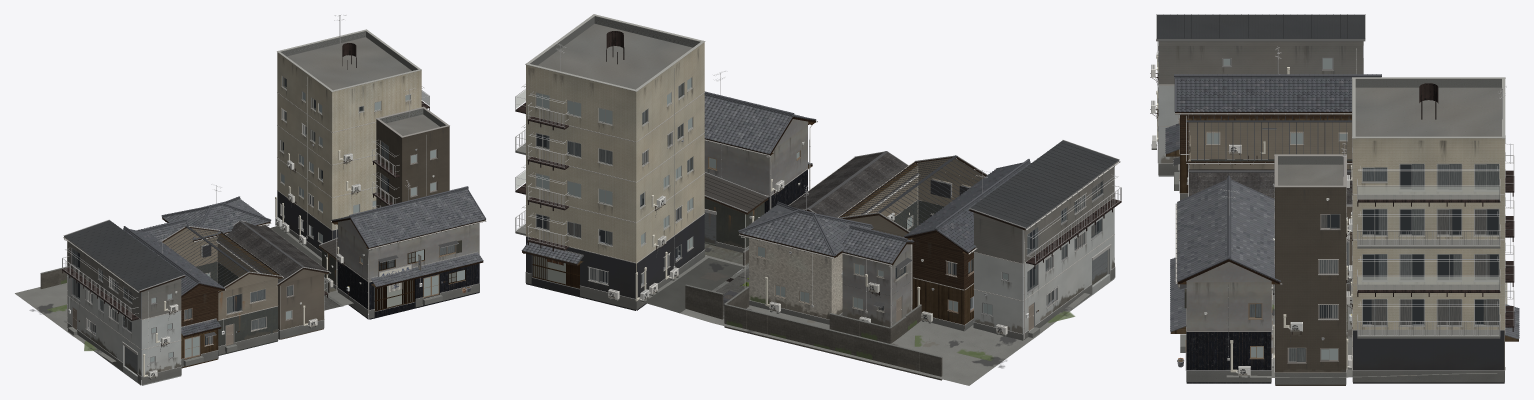
File: block_C.gltf
3 views of the same model, side by side, from view 1: azimuth 30°, elevation 25°; view 2: azimuth 150°, elevation 25°; view 3: azimuth 270°, elevation 25° (orthographic). The views are drawn at different scales.
Parts seen in each view (by area): view 1: C01_five_storey_rc, C02_craft_workshop, C08_three_storey_mortar, C06_long_tin_house, C03_pencil_building, C04_lane_house, C07_wood_row, C_ground, C05_corner_kawara, C02b_workshop_annex, C06b_back_house, C_walls; view 2: C01_five_storey_rc, C08_three_storey_mortar, C05_corner_kawara, C_ground, C02_craft_workshop, C07_wood_row, C_walls, C06b_back_house, C06_long_tin_house, C04_lane_house, C02b_workshop_annex; view 3: C01_five_storey_rc, C02_craft_workshop, C03_pencil_building, C08_three_storey_mortar, C07_wood_row, C06_long_tin_house, C04_lane_house, C_ground.
Boxes of the visible parts, bbox=[...] form: C01_five_storey_rc: bbox=[275, 15, 429, 257]; C02_craft_workshop: bbox=[331, 180, 486, 319]; C08_three_storey_mortar: bbox=[62, 219, 185, 385]; C06_long_tin_house: bbox=[161, 225, 283, 355]; C03_pencil_building: bbox=[372, 88, 449, 208]; C04_lane_house: bbox=[216, 220, 330, 339]; C07_wood_row: bbox=[123, 226, 226, 368]; C_ground: bbox=[15, 226, 353, 362]; C05_corner_kawara: bbox=[161, 184, 271, 242]; C02b_workshop_annex: bbox=[319, 237, 337, 290]; C06b_back_house: bbox=[137, 218, 188, 240]; C_walls: bbox=[40, 266, 329, 292]; C01_five_storey_rc: bbox=[515, 14, 705, 310]; C08_three_storey_mortar: bbox=[969, 140, 1121, 340]; C05_corner_kawara: bbox=[738, 185, 873, 324]; C_ground: bbox=[599, 230, 1089, 385]; C02_craft_workshop: bbox=[704, 71, 817, 213]; C07_wood_row: bbox=[903, 159, 1030, 331]; C_walls: bbox=[685, 247, 942, 380]; C06b_back_house: bbox=[840, 224, 914, 327]; C06_long_tin_house: bbox=[838, 155, 987, 236]; C04_lane_house: bbox=[788, 151, 919, 221]; C02b_workshop_annex: bbox=[704, 172, 768, 252]; C01_five_storey_rc: bbox=[1346, 77, 1519, 383]; C02_craft_workshop: bbox=[1170, 175, 1282, 383]; C03_pencil_building: bbox=[1271, 143, 1352, 385]; C08_three_storey_mortar: bbox=[1150, 14, 1365, 176]; C07_wood_row: bbox=[1165, 46, 1381, 200]; C06_long_tin_house: bbox=[1186, 115, 1352, 183]; C04_lane_house: bbox=[1188, 168, 1352, 273]; C_ground: bbox=[1226, 272, 1497, 377].
Bounding box in the file's own units: 38.42 × 19.88 × 23.73.
Materials: 42 (31 with a texture image).
